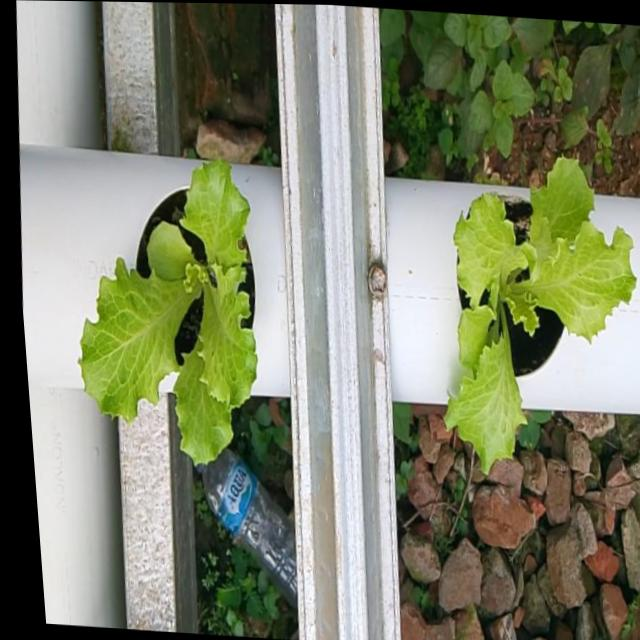Baby: (448, 155, 640, 472), (83, 158, 262, 466)
